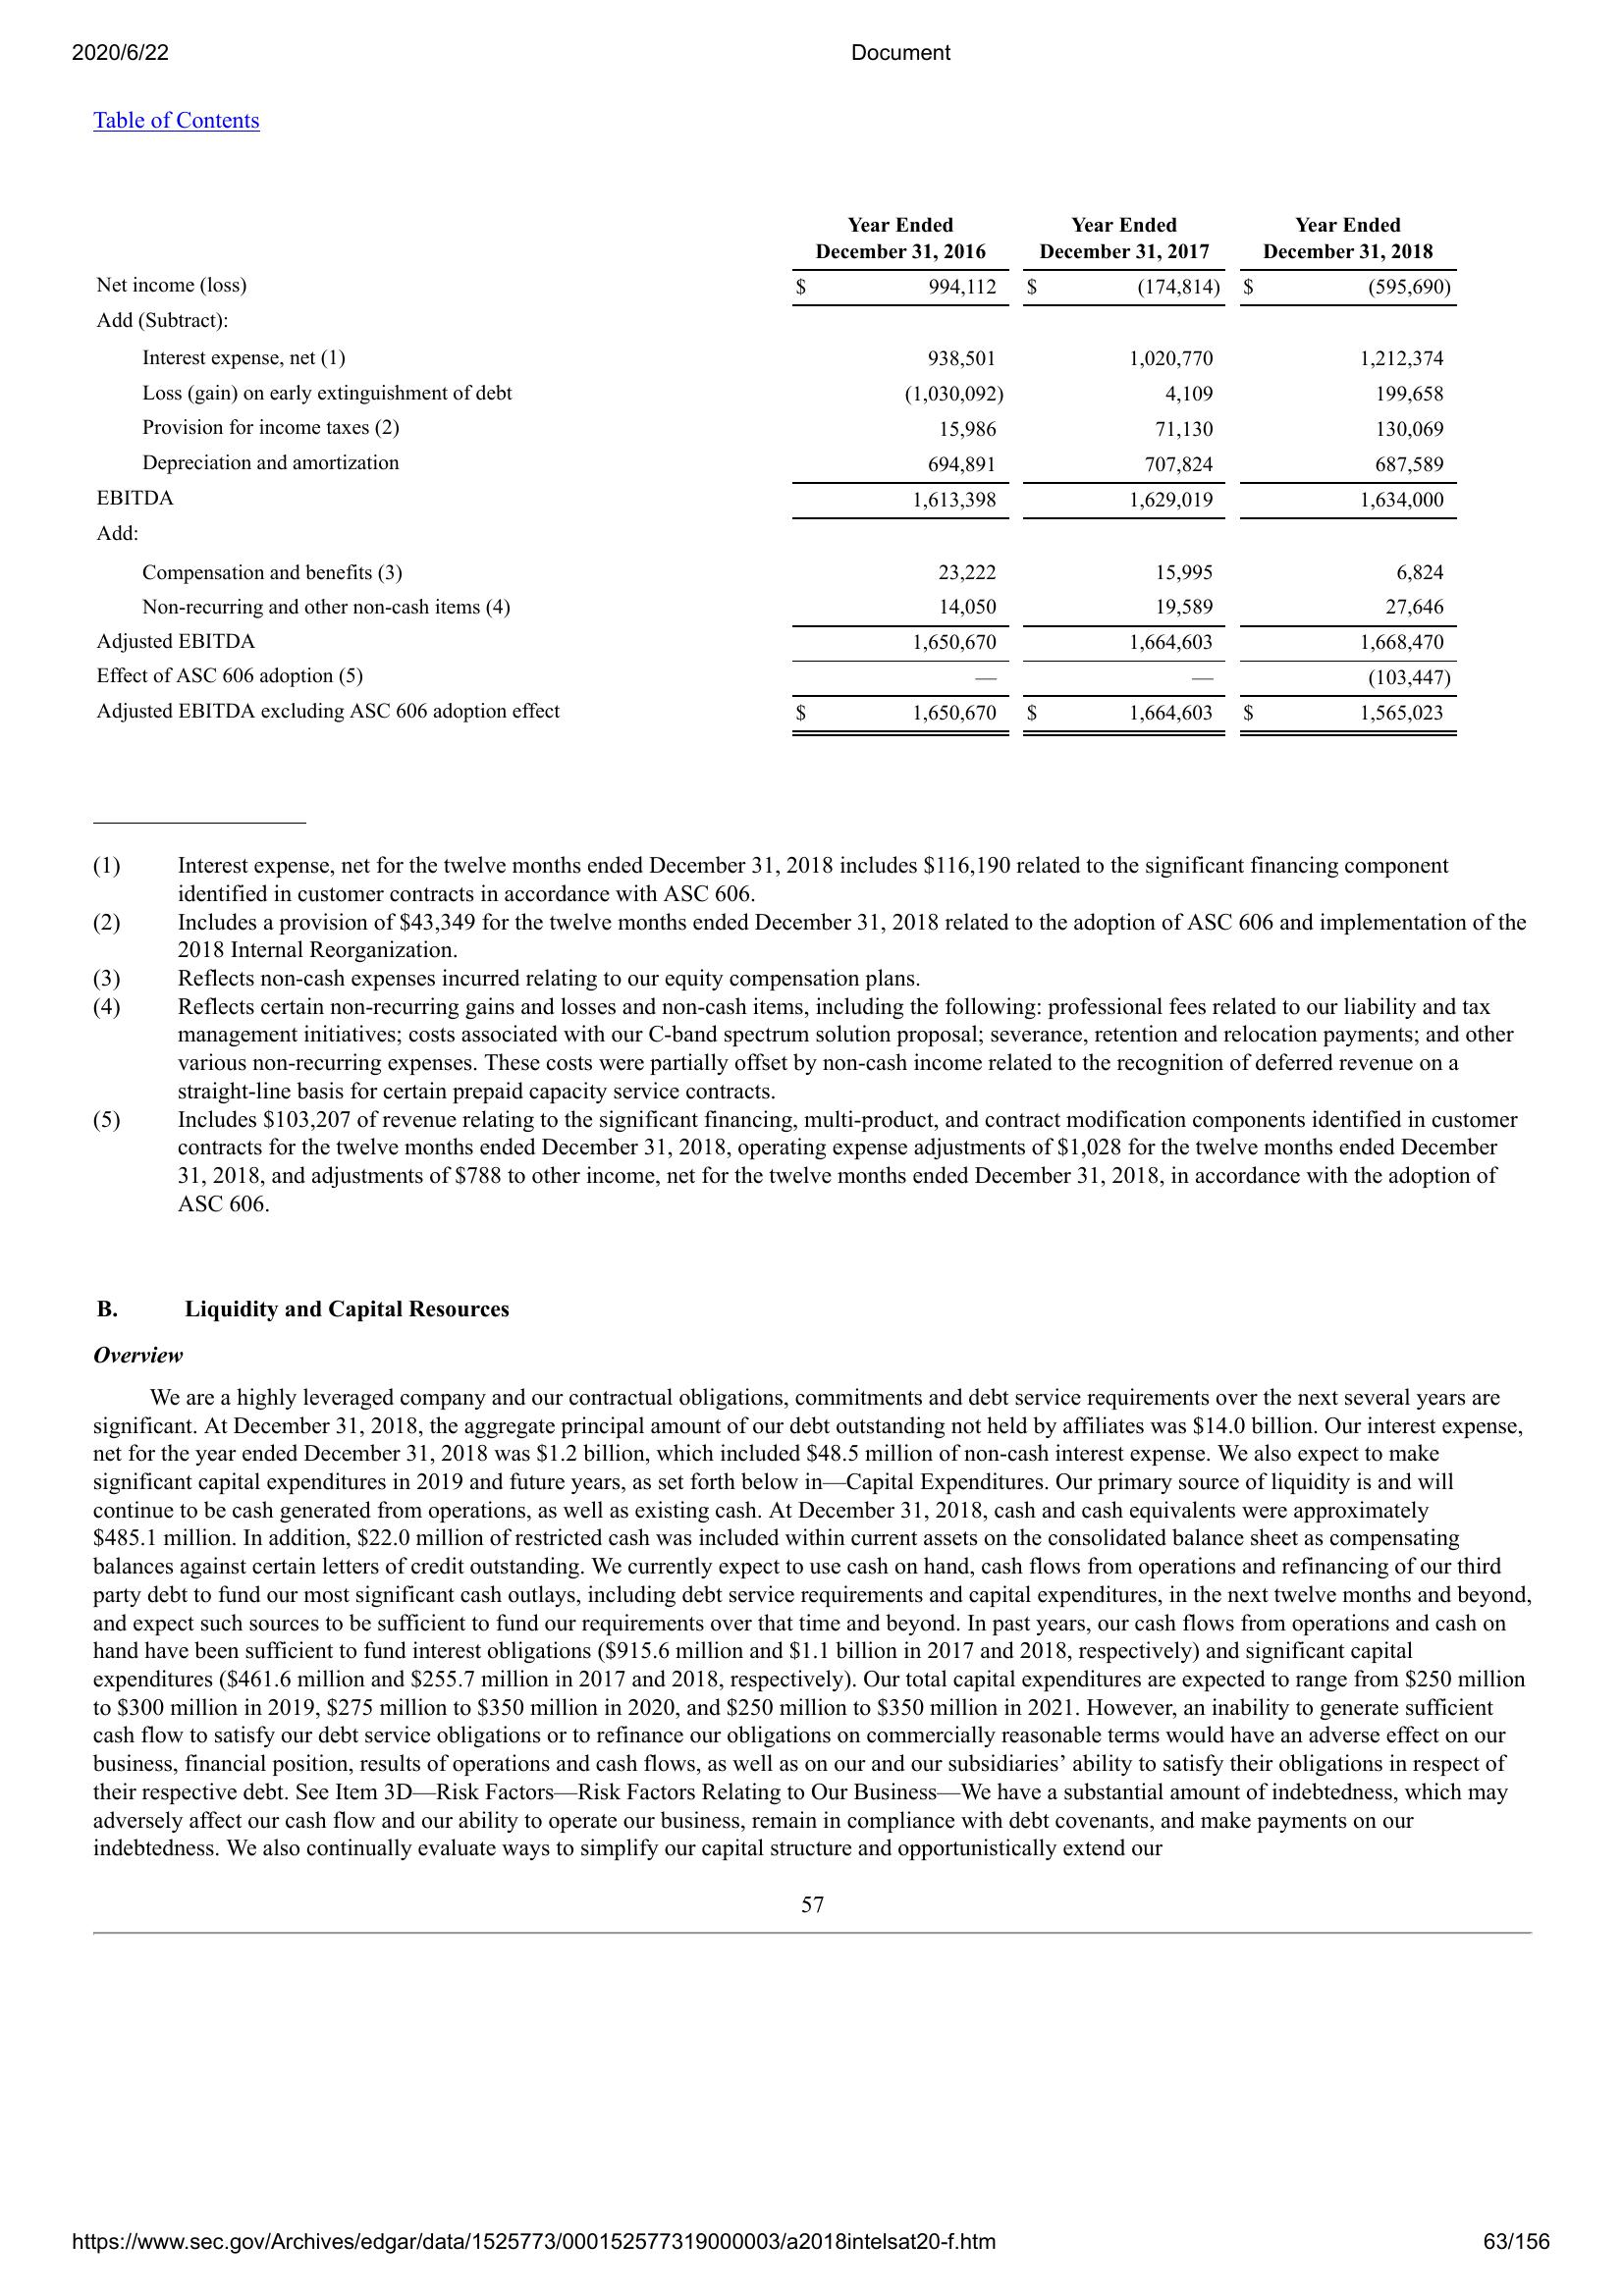table: (88, 204, 1461, 748)
